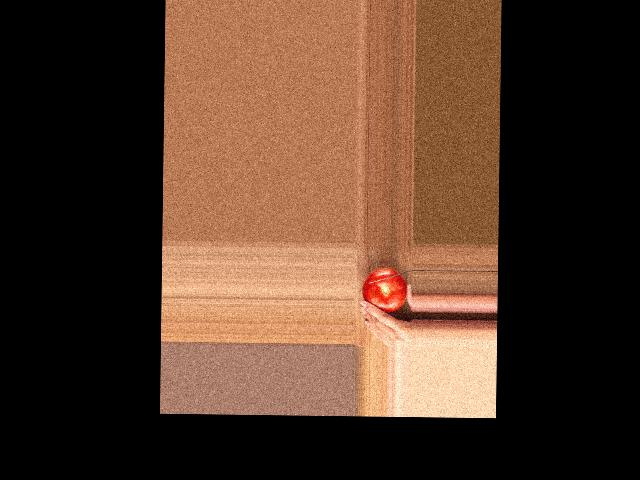tomato: (362, 268, 407, 313)
